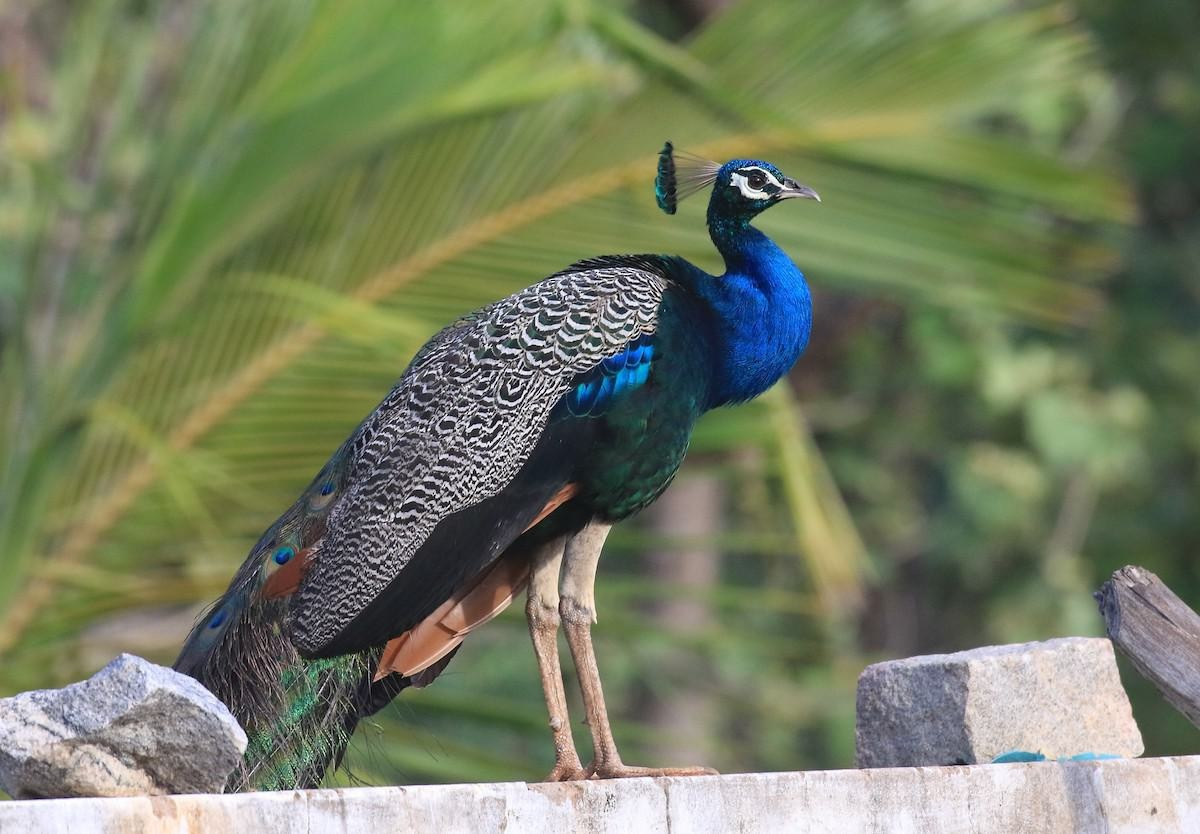peacock: (143, 91, 846, 802)
